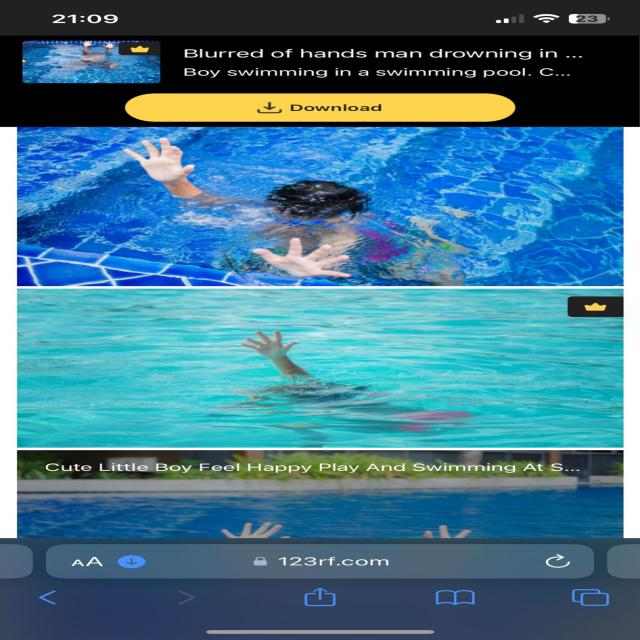Drowning: (120, 135, 472, 283), (228, 330, 458, 426)
